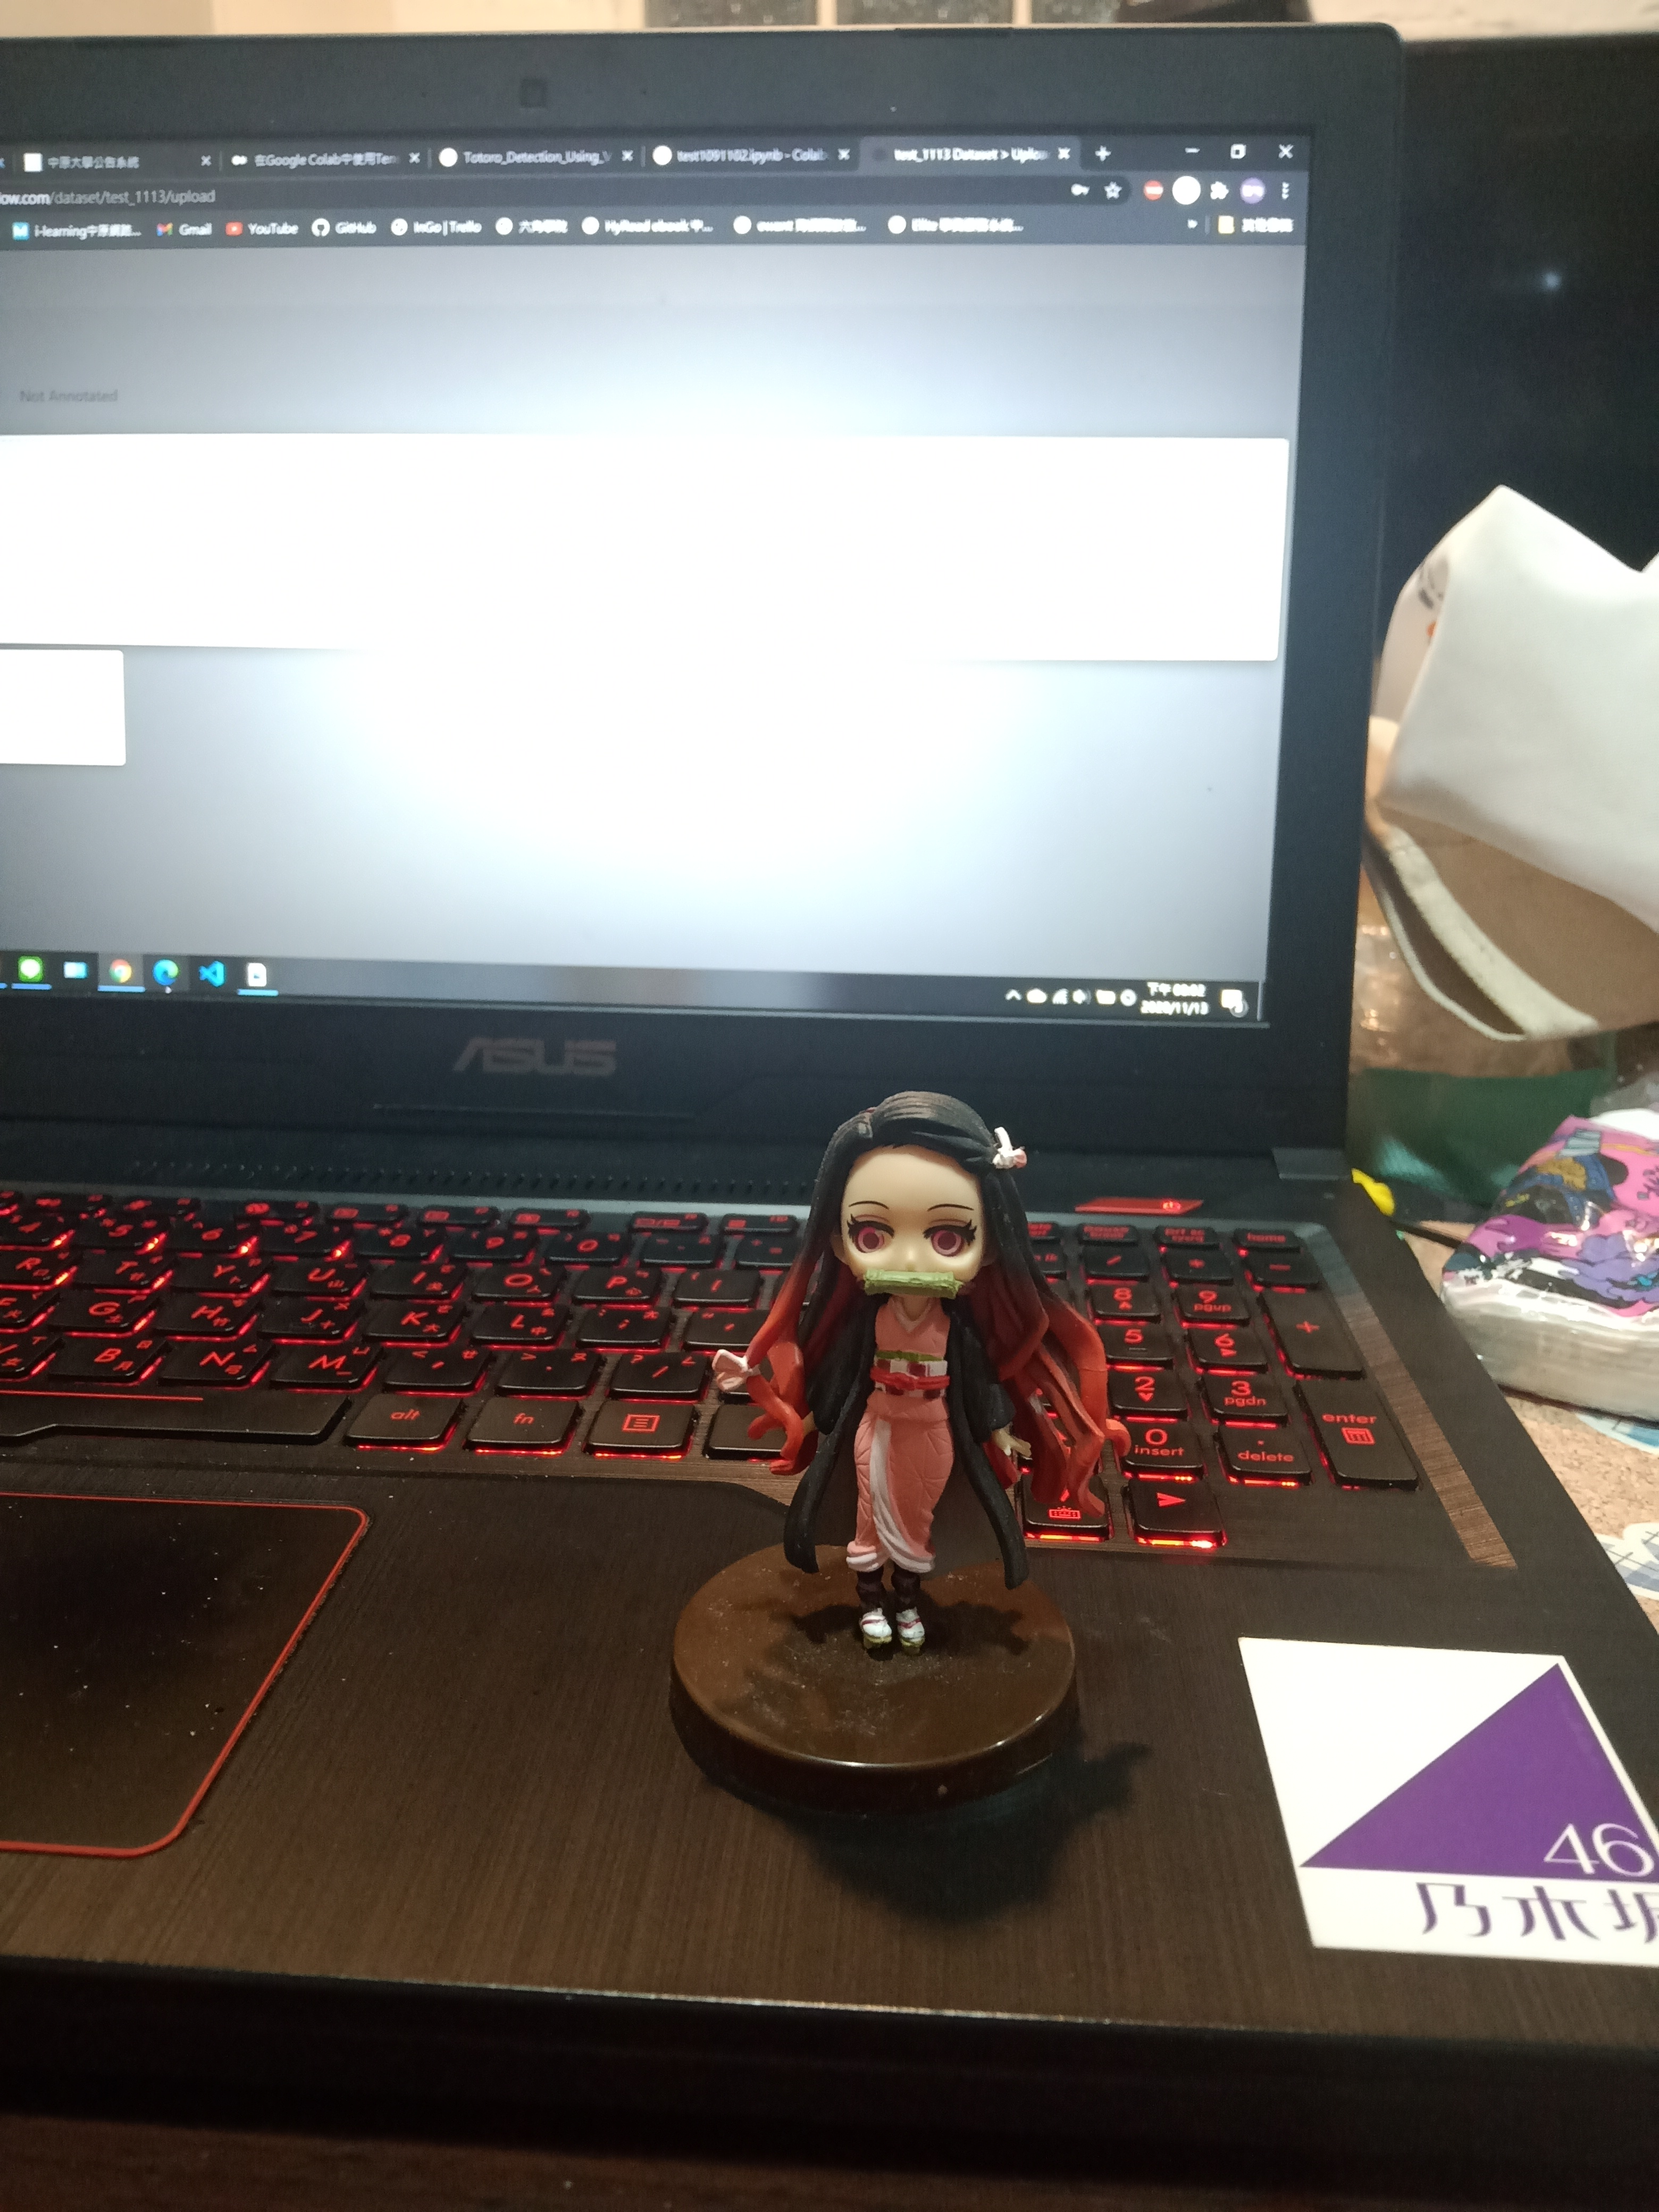Nezuko: (652, 1068, 1140, 1825)
